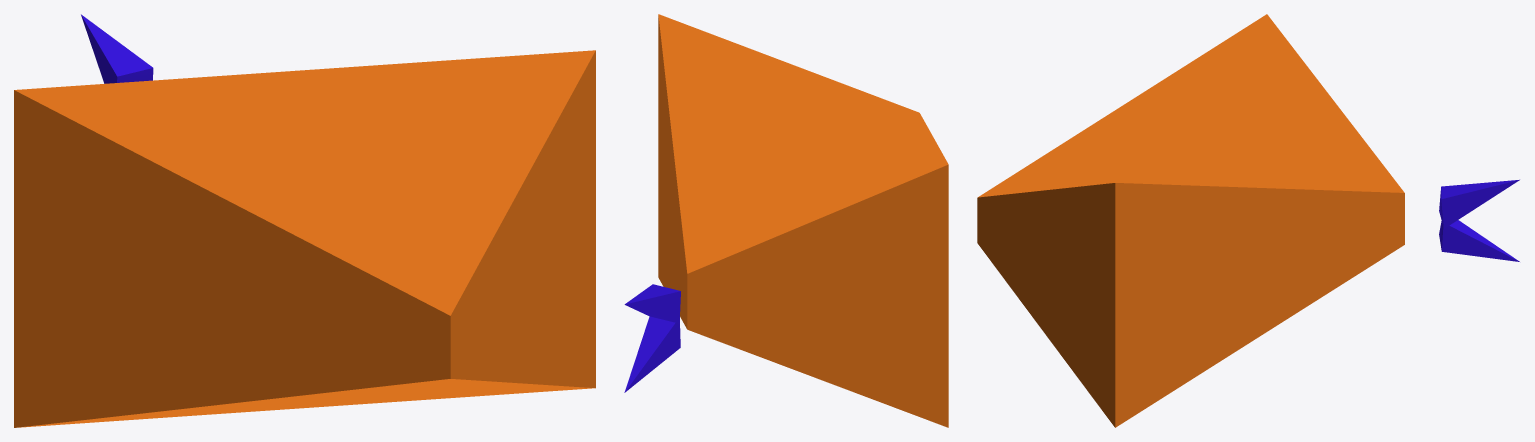
File: fish.FBX
The picture shows the model from 3 angles, left to right: view 1: azimuth 30°, elevation 25°; view 2: azimuth 150°, elevation 25°; view 3: azimuth 270°, elevation 25°; orthographic projection. The views are drawn at different scales.
Parts seen in each view (by area): view 1: Box001, Pyramid001; view 2: Box001, Pyramid002, Pyramid001; view 3: Box001, Pyramid001, Pyramid002.
Part boxes in pixels (x1,y1,x2,y2): Box001: (14,50,595,427); Pyramid001: (81,14,153,83); Box001: (658,14,948,427); Pyramid002: (624,316,680,392); Pyramid001: (624,284,680,323); Box001: (977,14,1404,427); Pyramid001: (1439,179,1519,228); Pyramid002: (1439,220,1519,261).
Size of the model in its own units: 22.6 by 15.3 by 30.73.
